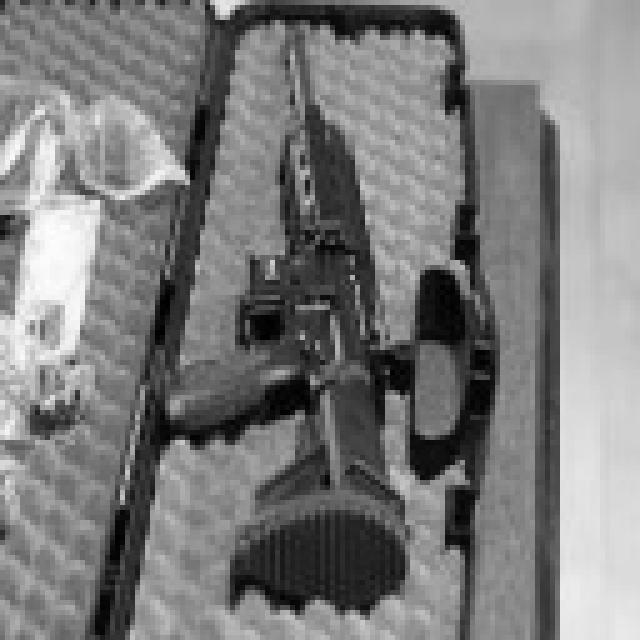Rifle: (144, 0, 472, 632)
